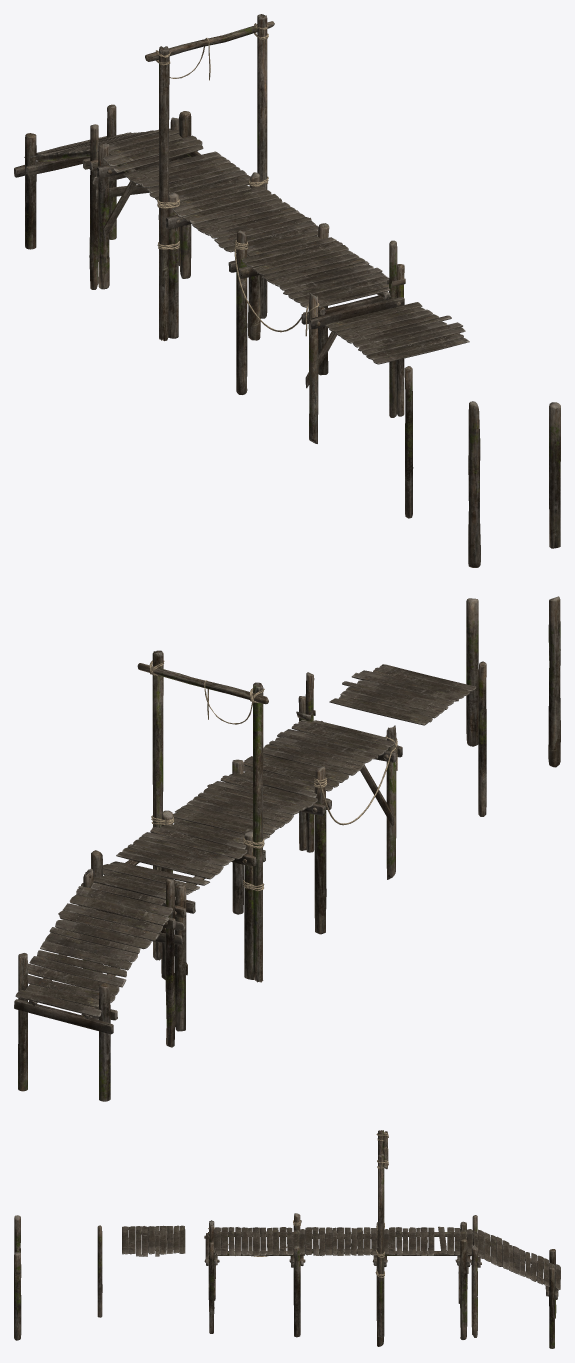
The model's file is modular_wooden_pier_web.glb.
3 renders of one model, top to bottom at view 1: azimuth 30°, elevation 25°; view 2: azimuth 150°, elevation 25°; view 3: azimuth 270°, elevation 25°, orthographic. The views are drawn at different scales.
Visible parts, largest first — view 1: modular_wooden_pier_section_01, modular_wooden_pier_section_03, modular_wooden_pier_section_02, modular_wooden_pier_section_05, modular_wooden_pier_section_04, modular_wooden_pier_planks, modular_wooden_pier_poles; view 2: modular_wooden_pier_section_04, modular_wooden_pier_section_01, modular_wooden_pier_section_03, modular_wooden_pier_section_02, modular_wooden_pier_section_05, modular_wooden_pier_poles, modular_wooden_pier_planks; view 3: modular_wooden_pier_section_01, modular_wooden_pier_section_04, modular_wooden_pier_section_03, modular_wooden_pier_section_02, modular_wooden_pier_planks, modular_wooden_pier_section_05, modular_wooden_pier_poles.
Boxes of the visible parts, left/top/right/bottom form: modular_wooden_pier_section_01: left=228, top=223, right=405, bottom=443; modular_wooden_pier_section_03: left=89, top=111, right=250, bottom=289; modular_wooden_pier_section_02: left=158, top=172, right=318, bottom=340; modular_wooden_pier_section_05: left=145, top=14, right=274, bottom=341; modular_wooden_pier_section_04: left=14, top=104, right=179, bottom=289; modular_wooden_pier_planks: left=325, top=302, right=469, bottom=364; modular_wooden_pier_poles: left=404, top=366, right=560, bottom=567; modular_wooden_pier_section_04: left=14, top=868, right=175, bottom=1101; modular_wooden_pier_section_01: left=229, top=672, right=402, bottom=934; modular_wooden_pier_section_03: left=81, top=827, right=247, bottom=1031; modular_wooden_pier_section_02: left=160, top=775, right=317, bottom=979; modular_wooden_pier_section_05: left=137, top=650, right=268, bottom=982; modular_wooden_pier_poles: left=466, top=596, right=560, bottom=816; modular_wooden_pier_planks: left=329, top=664, right=476, bottom=725; modular_wooden_pier_section_01: left=204, top=1213, right=305, bottom=1337; modular_wooden_pier_section_04: left=471, top=1215, right=560, bottom=1348; modular_wooden_pier_section_03: left=376, top=1221, right=473, bottom=1339; modular_wooden_pier_section_02: left=292, top=1222, right=389, bottom=1346; modular_wooden_pier_planks: left=122, top=1225, right=185, bottom=1256; modular_wooden_pier_section_05: left=375, top=1130, right=388, bottom=1337; modular_wooden_pier_poles: left=14, top=1215, right=102, bottom=1340.
Bounding box in the file's own units: 3.1 × 7.51 × 19.03.
Materials: 2 (2 with a texture image).
